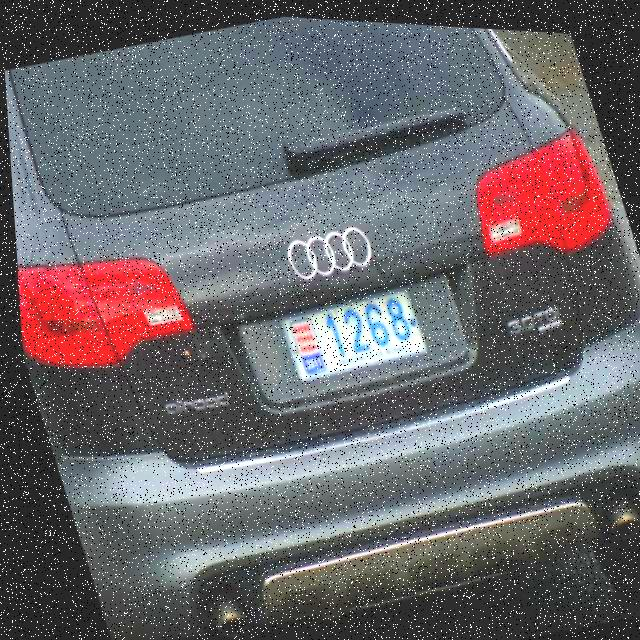license_plate: (269, 280, 422, 378)
